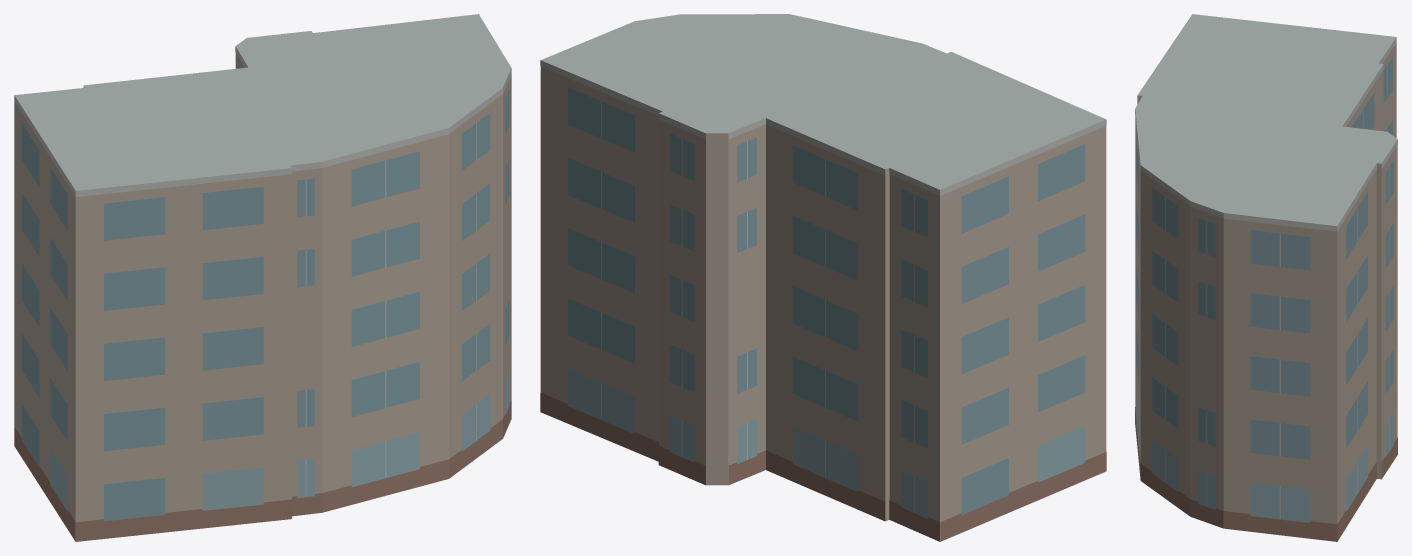
The model's file is survey-upis-32620654.glb.
3 renders of one model, left to right at view 1: azimuth 30°, elevation 25°; view 2: azimuth 150°, elevation 25°; view 3: azimuth 270°, elevation 25°, orthographic. The views are drawn at different scales.
Parts seen in each view (by area): view 1: survey-upis-32620654.tmp; view 2: survey-upis-32620654.tmp; view 3: survey-upis-32620654.tmp.
Boxes of the visible parts, x1,y1,x2,y2 form: survey-upis-32620654.tmp: [14, 14, 511, 541]; survey-upis-32620654.tmp: [540, 14, 1106, 541]; survey-upis-32620654.tmp: [1135, 14, 1397, 541].
Bounding box in the file's own units: 19.99 × 13.85 × 10.45.
